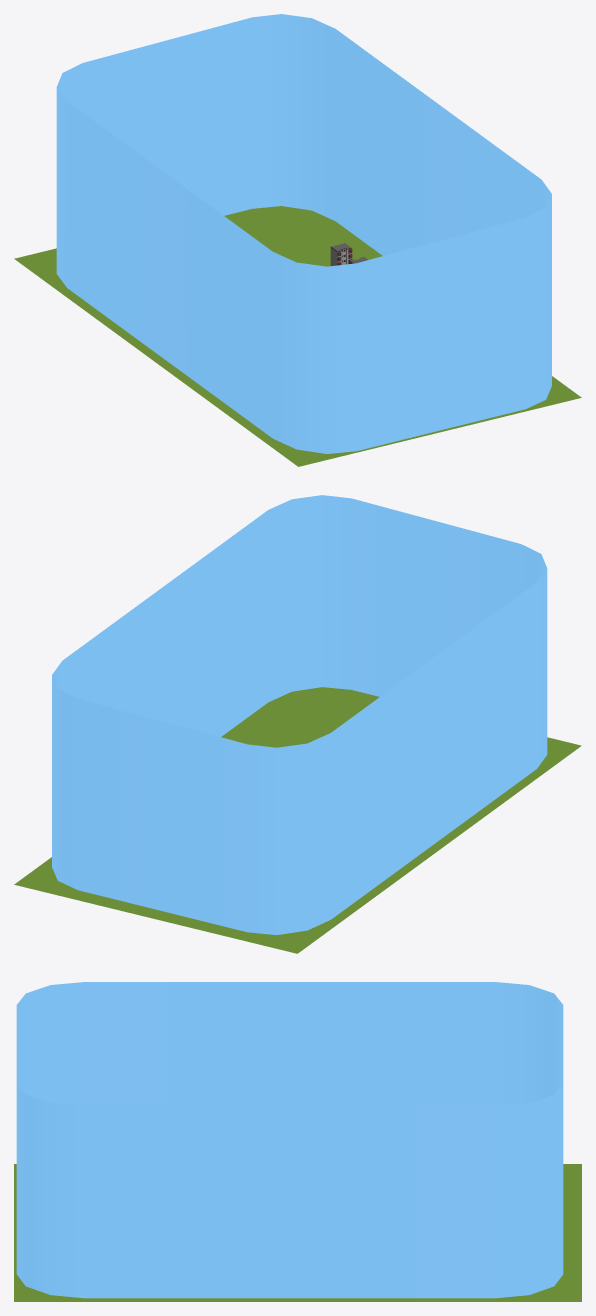
3 views of the same model, one above another, from view 1: azimuth 30°, elevation 25°; view 2: azimuth 150°, elevation 25°; view 3: azimuth 270°, elevation 25° (orthographic).
Parts seen in each view (by area): view 1: sky, grass; view 2: sky, grass; view 3: sky, grass.
Part boxes in pixels (<box>): sky: <box>56,14,551,453</box>; grass: <box>14,206,581,466</box>; sky: <box>52,495,547,934</box>; grass: <box>14,687,581,953</box>; sky: <box>16,982,563,1298</box>; grass: <box>14,1164,581,1301</box>.
Size of the model in its own units: 173 by 113 by 301.
Materials: 27 (15 with a texture image).
